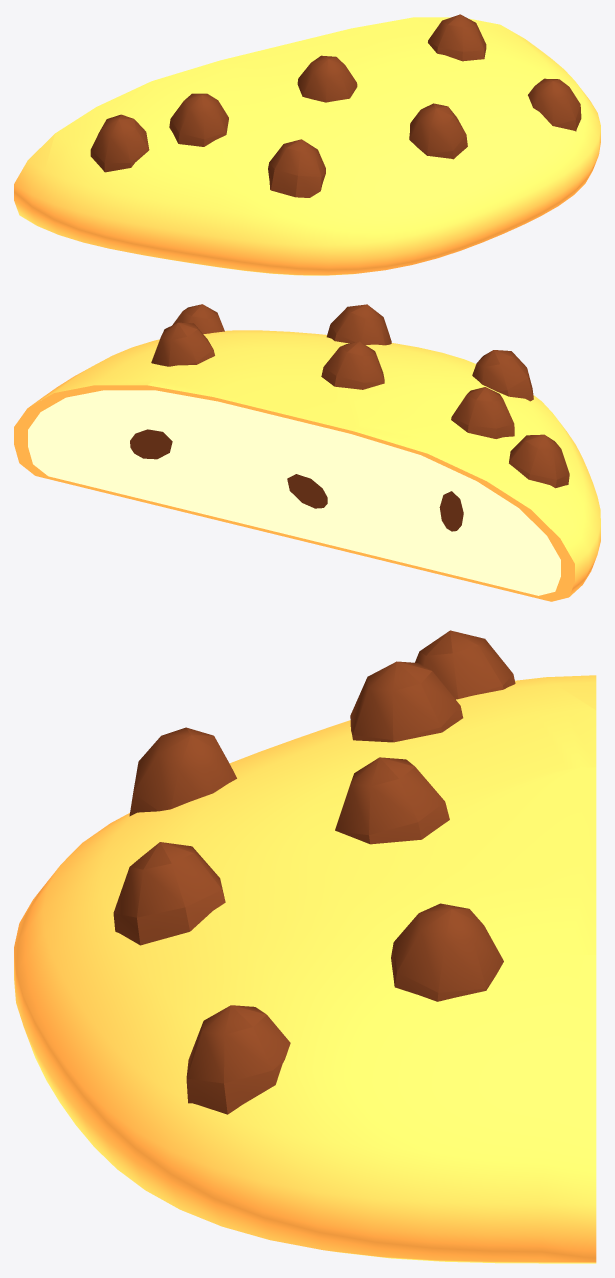
The picture shows the model from 3 angles, top to bottom: view 1: azimuth 30°, elevation 25°; view 2: azimuth 150°, elevation 25°; view 3: azimuth 270°, elevation 25°; orthographic projection. The views are drawn at different scales.
Visible parts, largest first — view 1: Cookie-left; view 2: Cookie-left; view 3: Cookie-left.
Part boxes in pixels (x1,y1,x2,y2): Cookie-left: (14, 14, 600, 275); Cookie-left: (14, 304, 600, 601); Cookie-left: (14, 630, 596, 1263).
Bounding box in the file's own units: 0.0237 × 0.00625 × 0.012.
